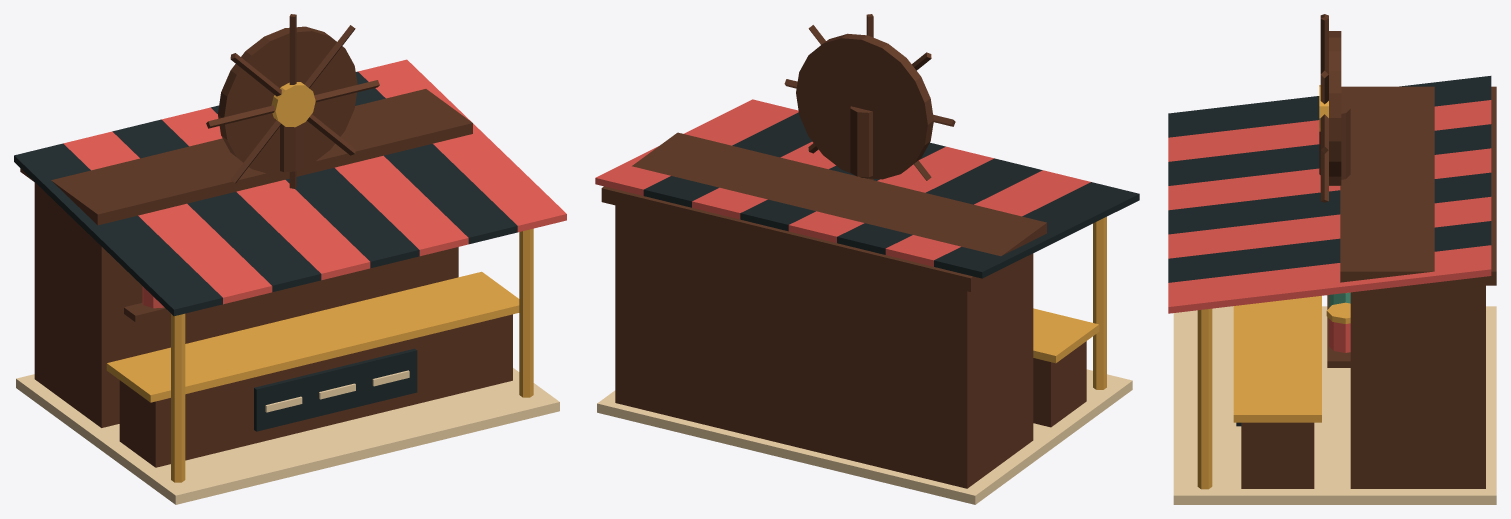
File: ParkParkShopTavern.obj
3 renders of one model, left to right at view 1: azimuth 30°, elevation 25°; view 2: azimuth 150°, elevation 25°; view 3: azimuth 270°, elevation 25°, orthographic. The views are drawn at different scales.
Parts seen in each view (by area): view 1: ParkParkShopTavern; view 2: ParkParkShopTavern; view 3: ParkParkShopTavern.
Boxes of the visible parts, x1,y1,x2,y2 form: ParkParkShopTavern: [14, 14, 566, 504]; ParkParkShopTavern: [595, 14, 1139, 504]; ParkParkShopTavern: [1168, 14, 1496, 504].
Bounding box in the file's own units: 8.8 × 8.3 × 6.3.
